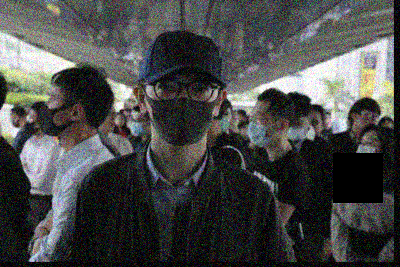with_mask: (144, 73, 214, 143), (34, 89, 70, 137), (245, 109, 277, 145), (354, 135, 381, 168), (285, 117, 306, 141), (23, 111, 37, 137), (129, 116, 144, 135)
without_mask: (355, 109, 377, 133)
